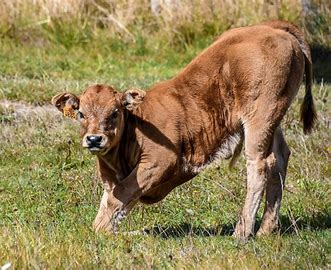waka: (50, 23, 320, 242)
